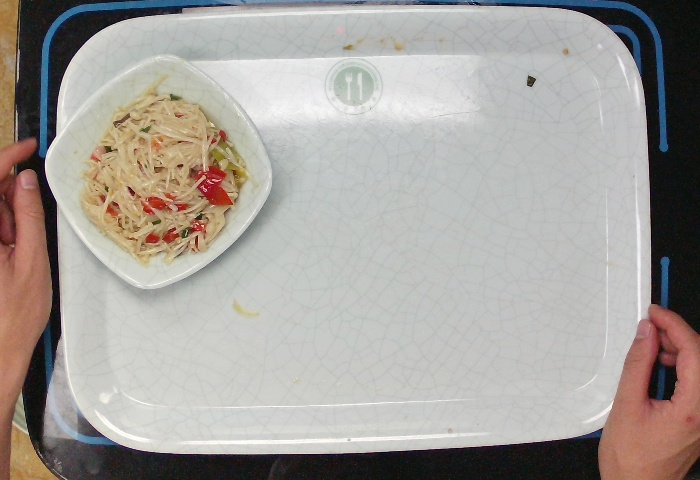WCQzf-Da_Si_Fang_Die: (41, 49, 278, 294)
